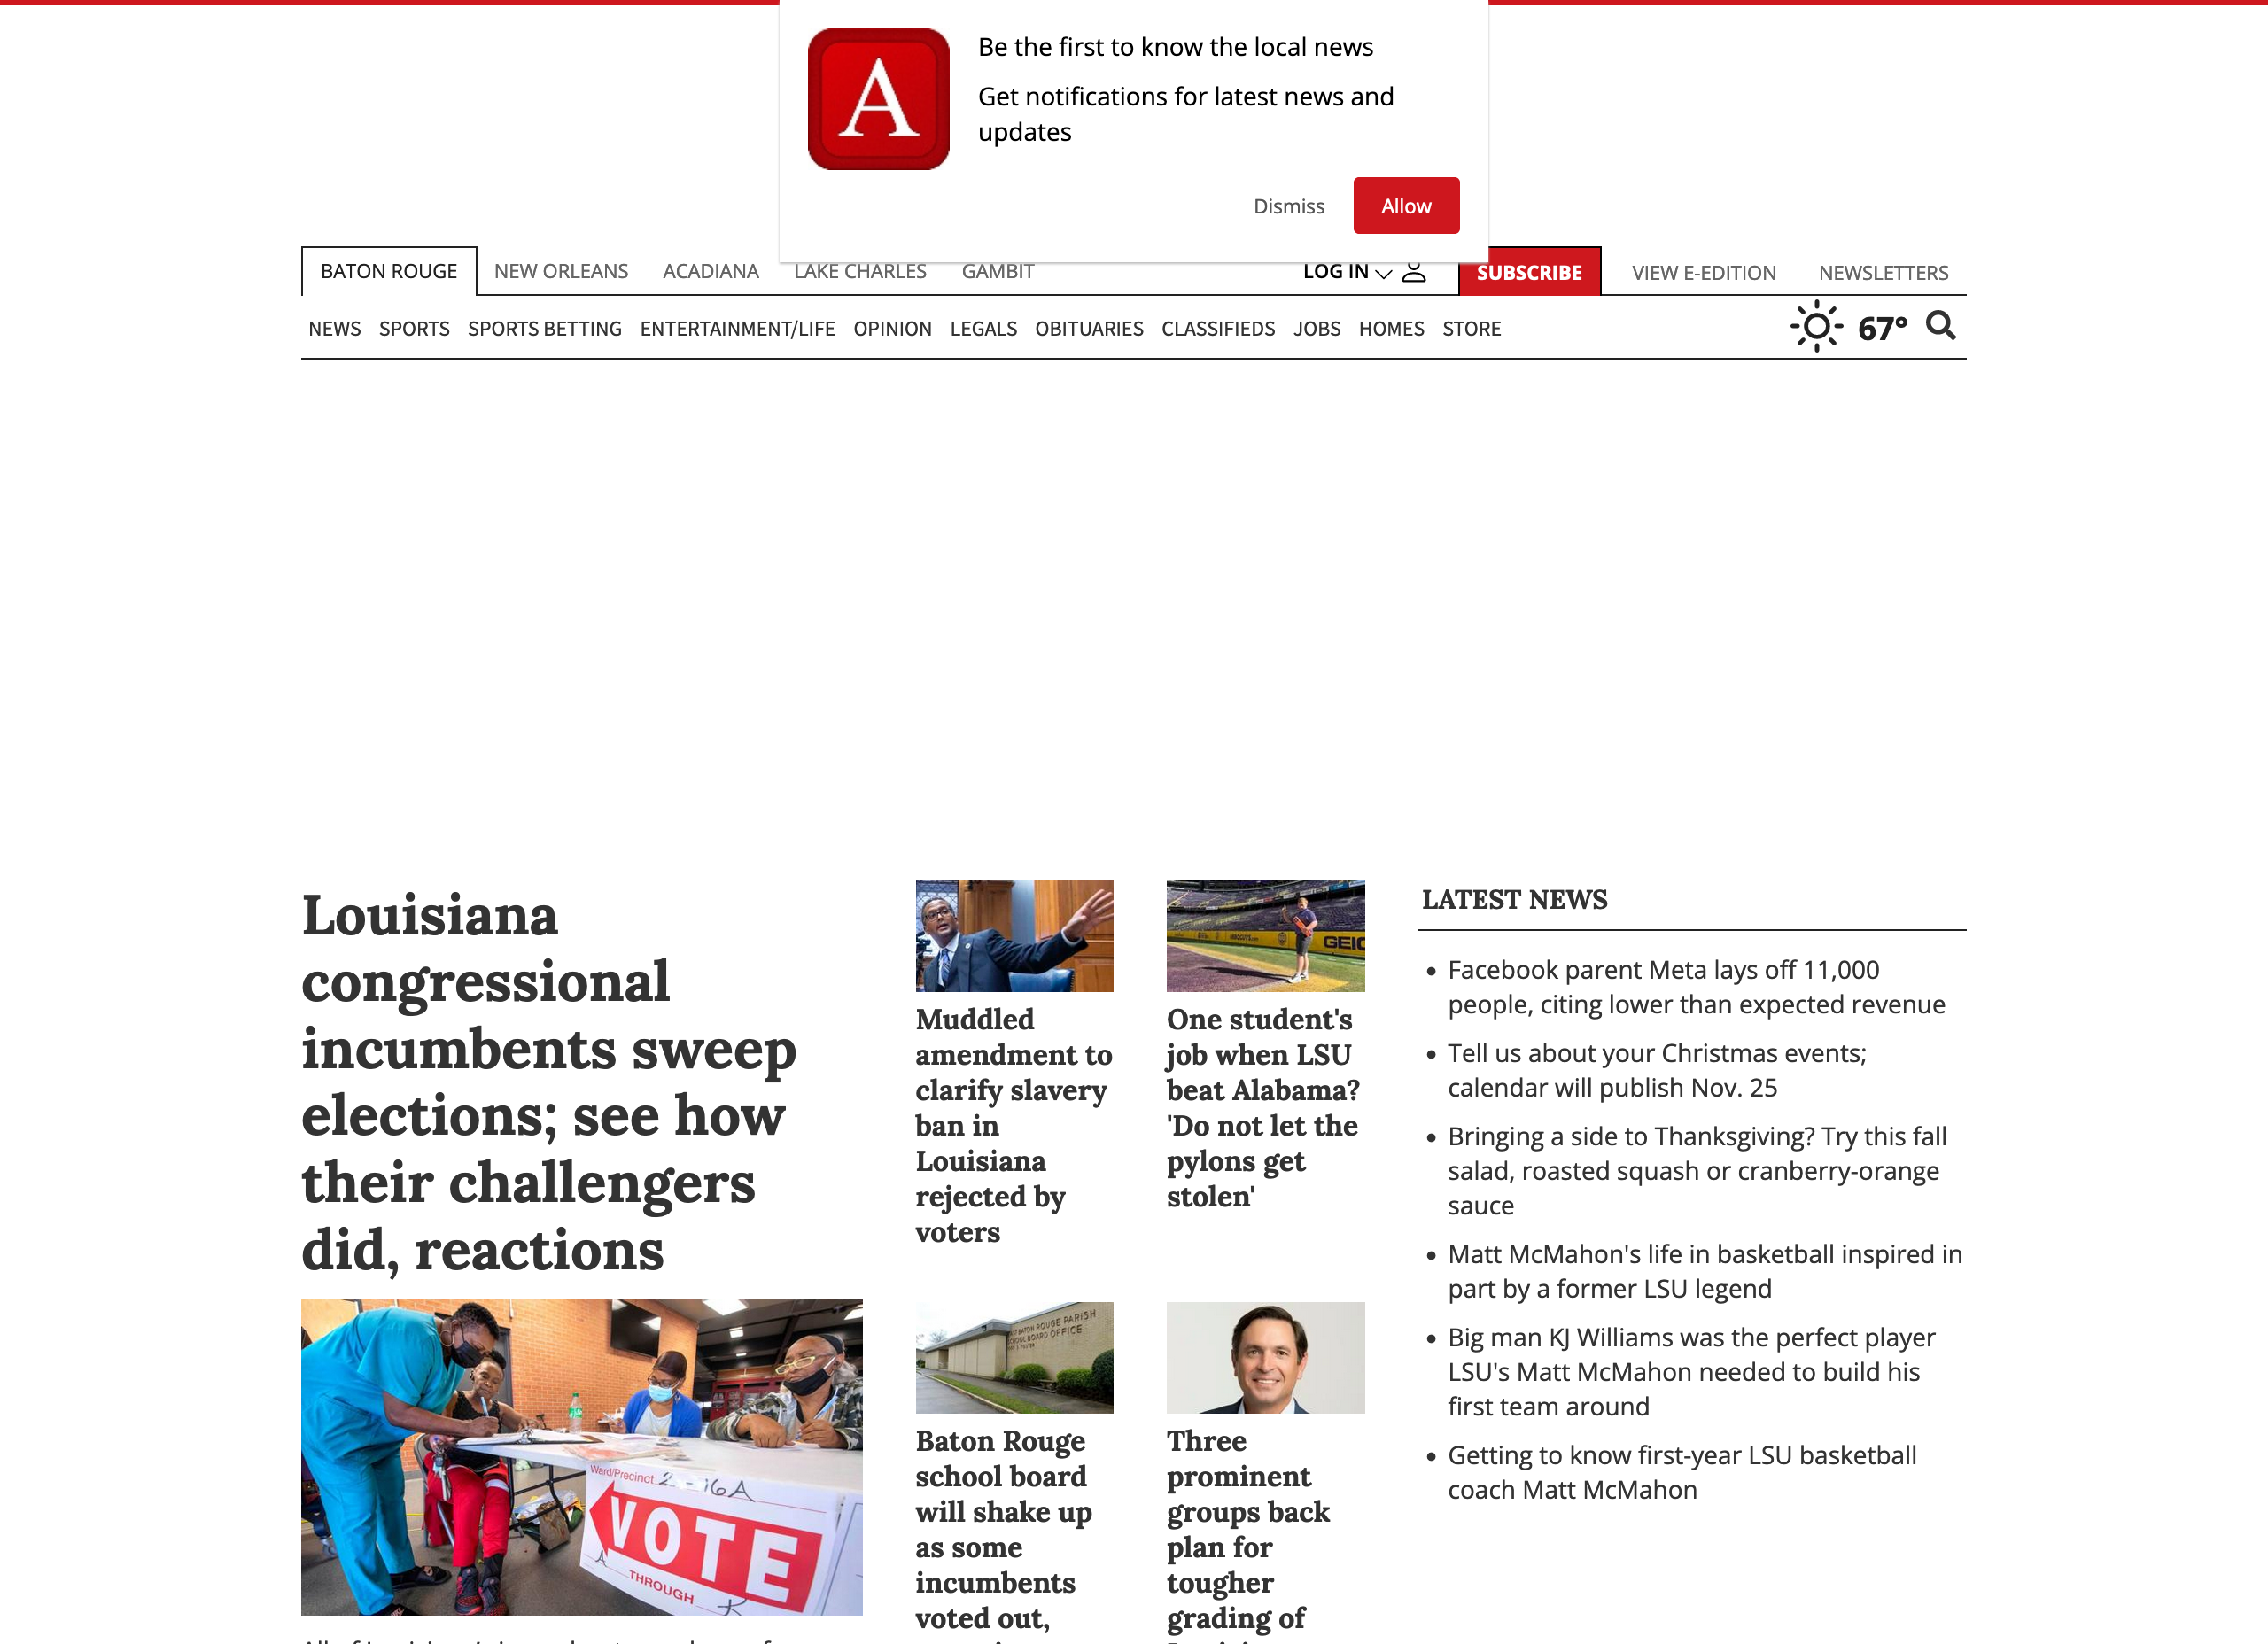Login: (1301, 259, 1372, 287)
